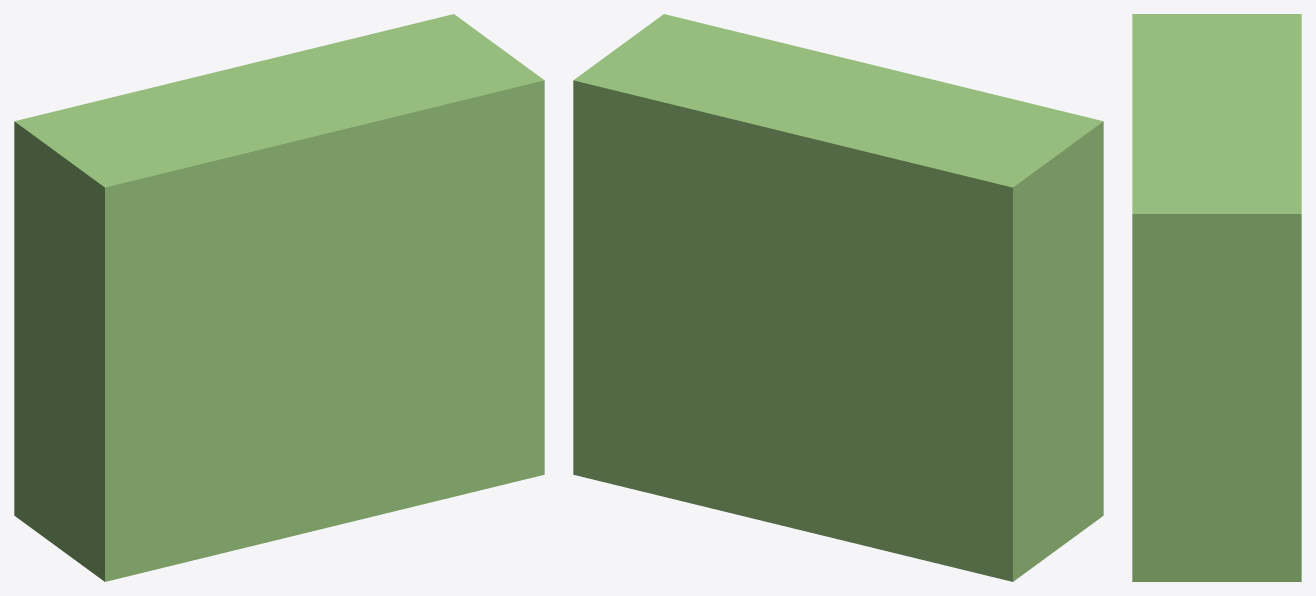
The model's file is batterypack.gltf.
3 renders of one model, left to right at view 1: azimuth 30°, elevation 25°; view 2: azimuth 150°, elevation 25°; view 3: azimuth 270°, elevation 25°, orthographic. The views are drawn at different scales.
Visible parts, largest first — view 1: mesh3044, mesh3042, mesh3043; view 2: mesh3045, mesh3042, mesh3043; view 3: mesh3041, mesh3042.
Part boxes in pixels (x1,y1,x2,y2): mesh3044: [105, 80, 544, 581]; mesh3042: [14, 14, 543, 187]; mesh3043: [14, 121, 104, 581]; mesh3045: [573, 80, 1012, 581]; mesh3042: [574, 14, 1103, 187]; mesh3043: [1013, 121, 1103, 581]; mesh3041: [1132, 214, 1301, 581]; mesh3042: [1132, 14, 1301, 213].
Size of the model in its own units: 0.07 by 0.06 by 0.025.
